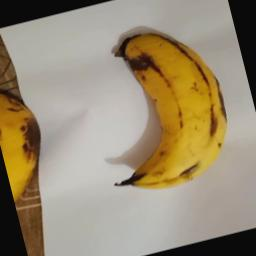Banana Unripe: (73, 13, 244, 206)
